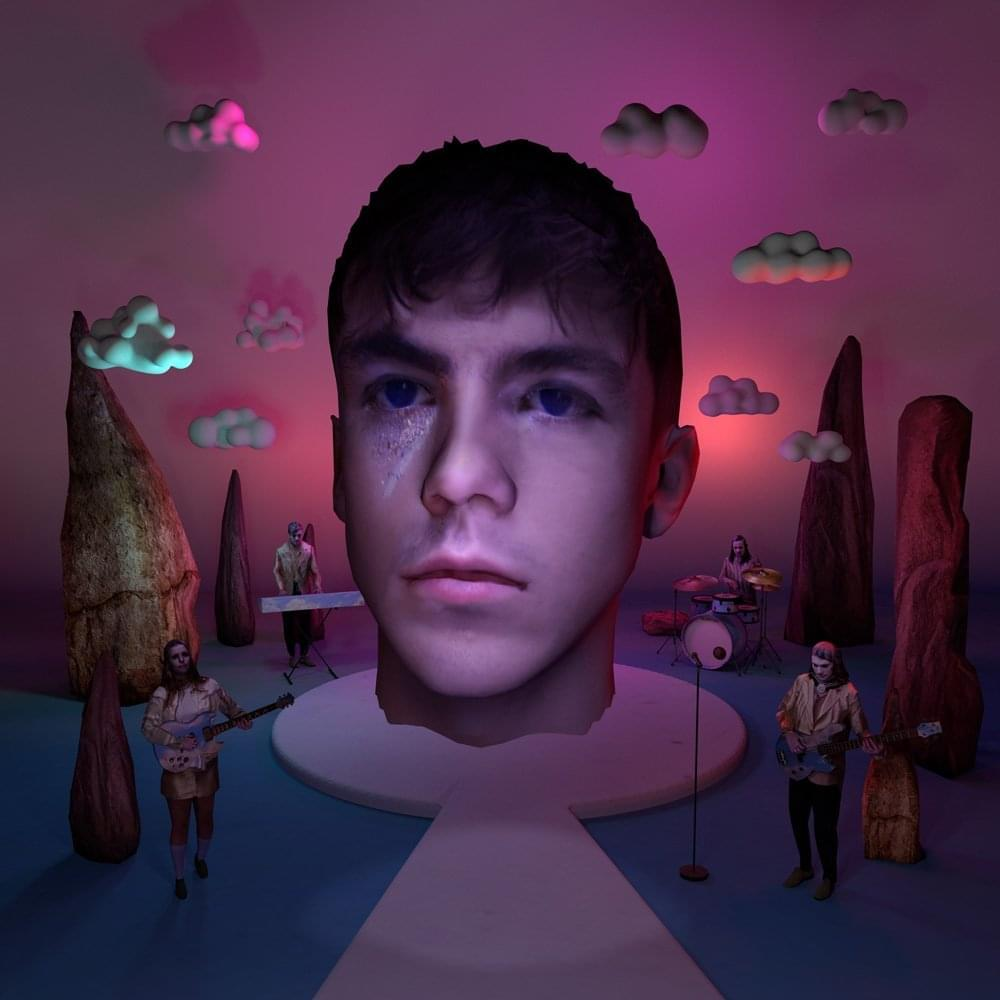no_mask: (316, 138, 700, 711)
